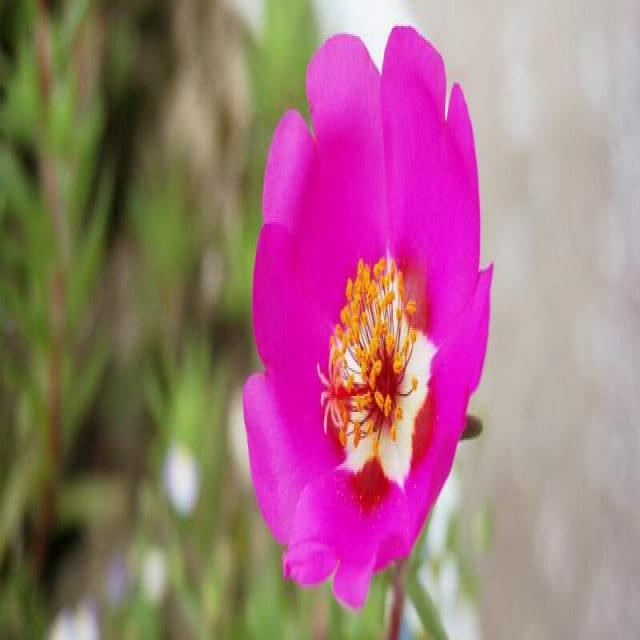organic waste: (230, 18, 493, 606)
